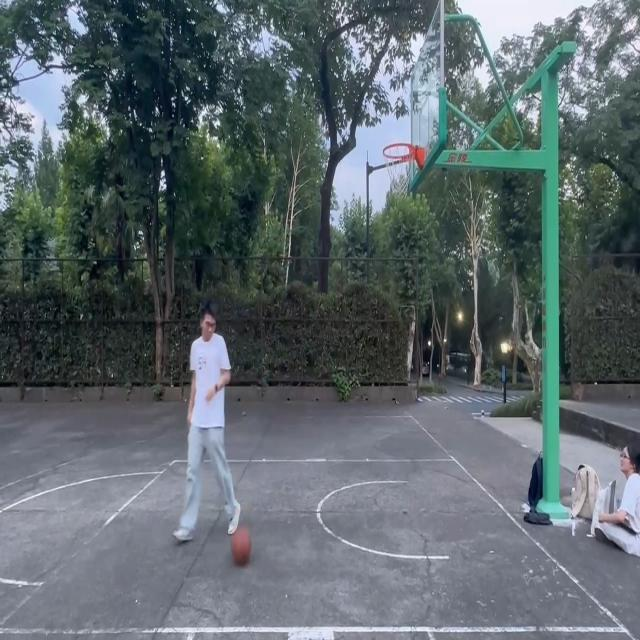basketball: (382, 143, 426, 198)
rim: (232, 526, 254, 566)
